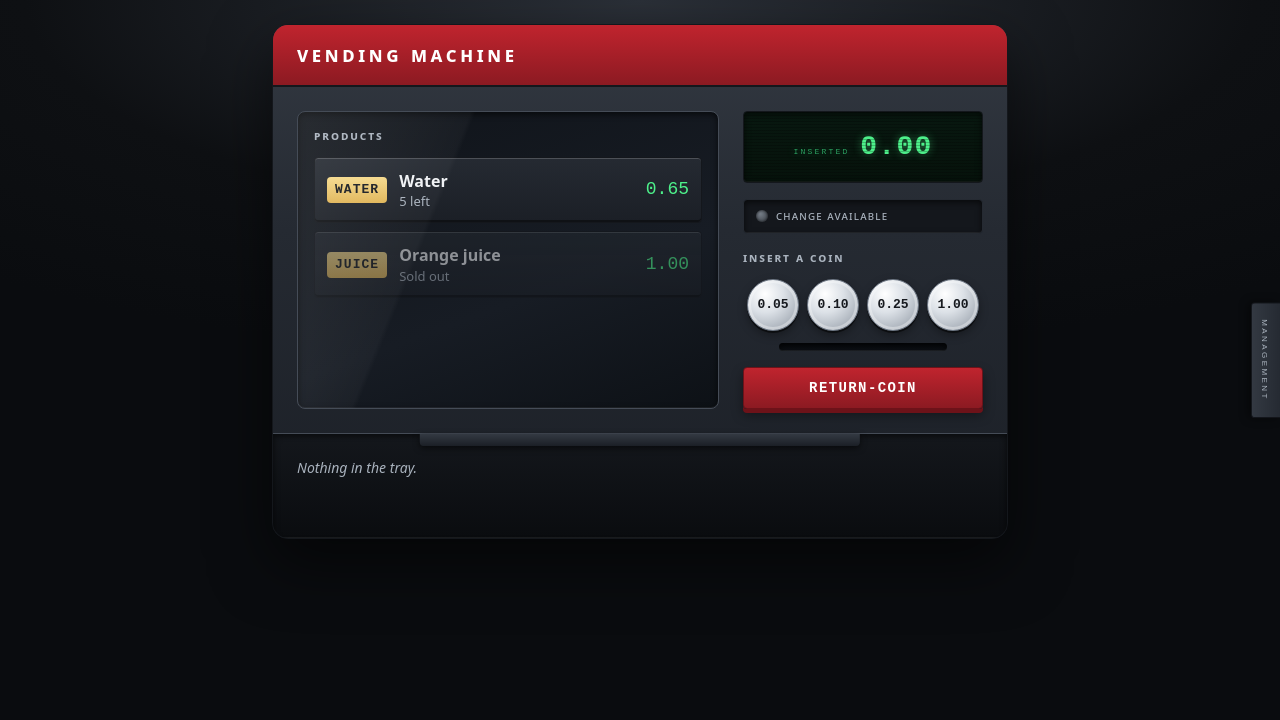
MachinePage › services the machine from the drawer and shows what came back
expect the button "WATER Water 0.65 5 left" is shown: met, box [314,157,702,223]
Click the button "Management": [1266, 360] box [1251,302,1279,418]
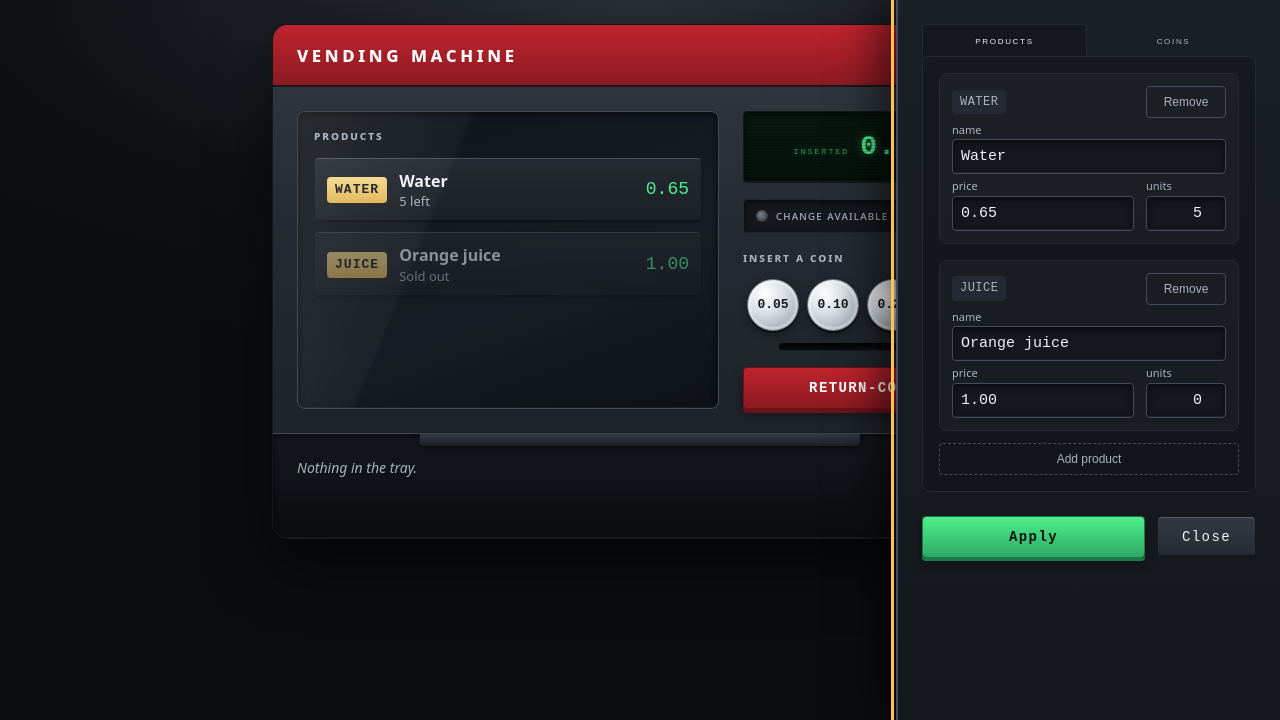
Replace the text in the number field named "WATER" with "20": [1186, 213] box [1146,196,1226,231]
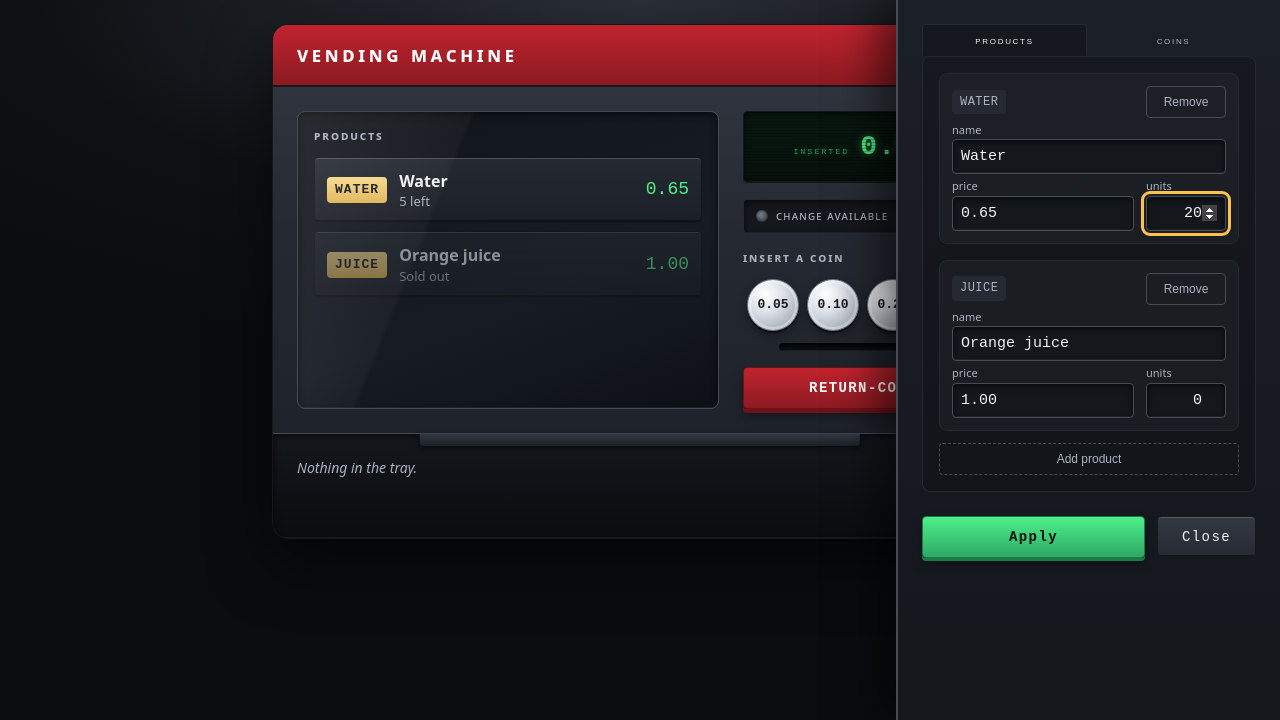
Click the button "Apply": [1034, 537] box [922,516,1145,558]
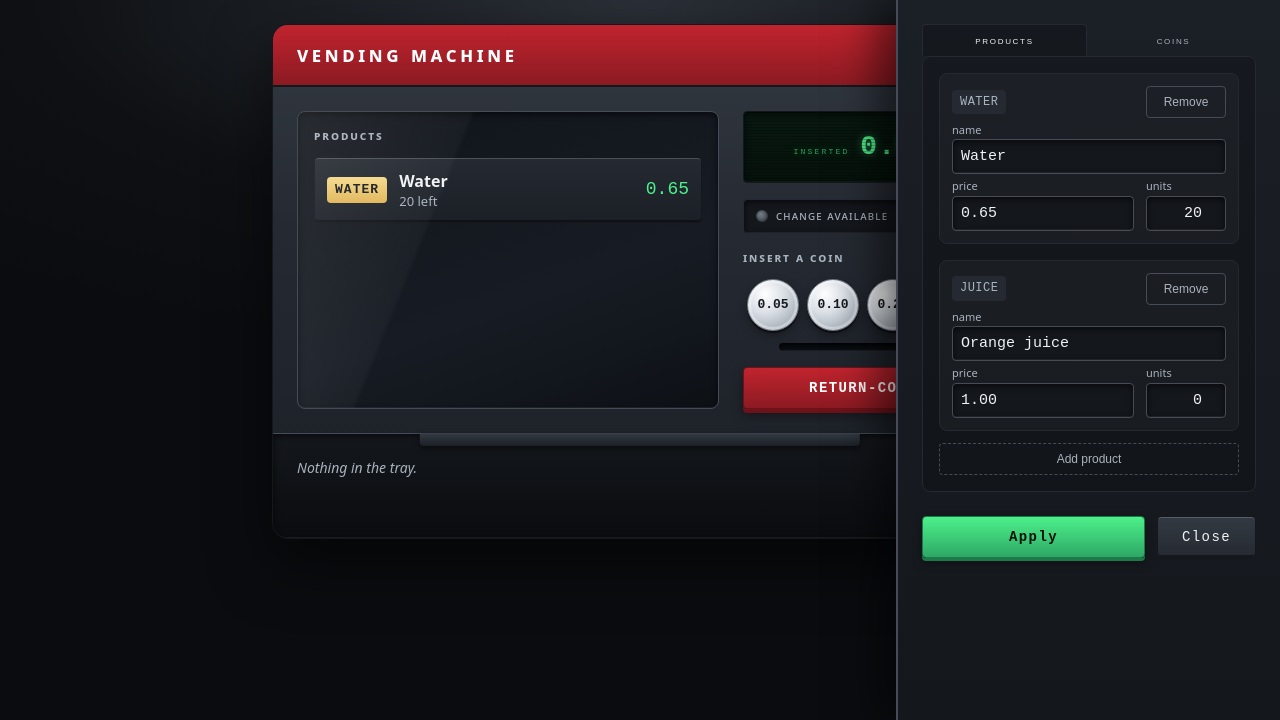
expect the button "WATER Water 0.65 20 left" is shown: met, box [314,157,702,223]
